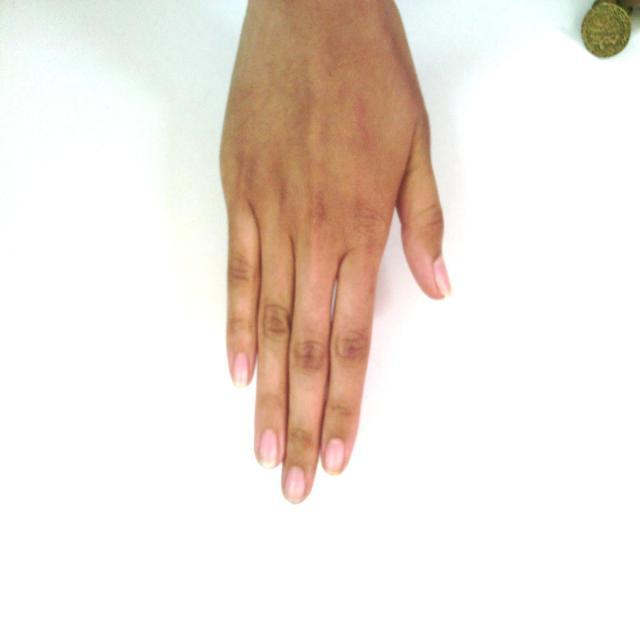Fingernail: (259, 430, 279, 469), (285, 466, 306, 503), (434, 256, 452, 295), (325, 438, 344, 473), (233, 352, 250, 387)
